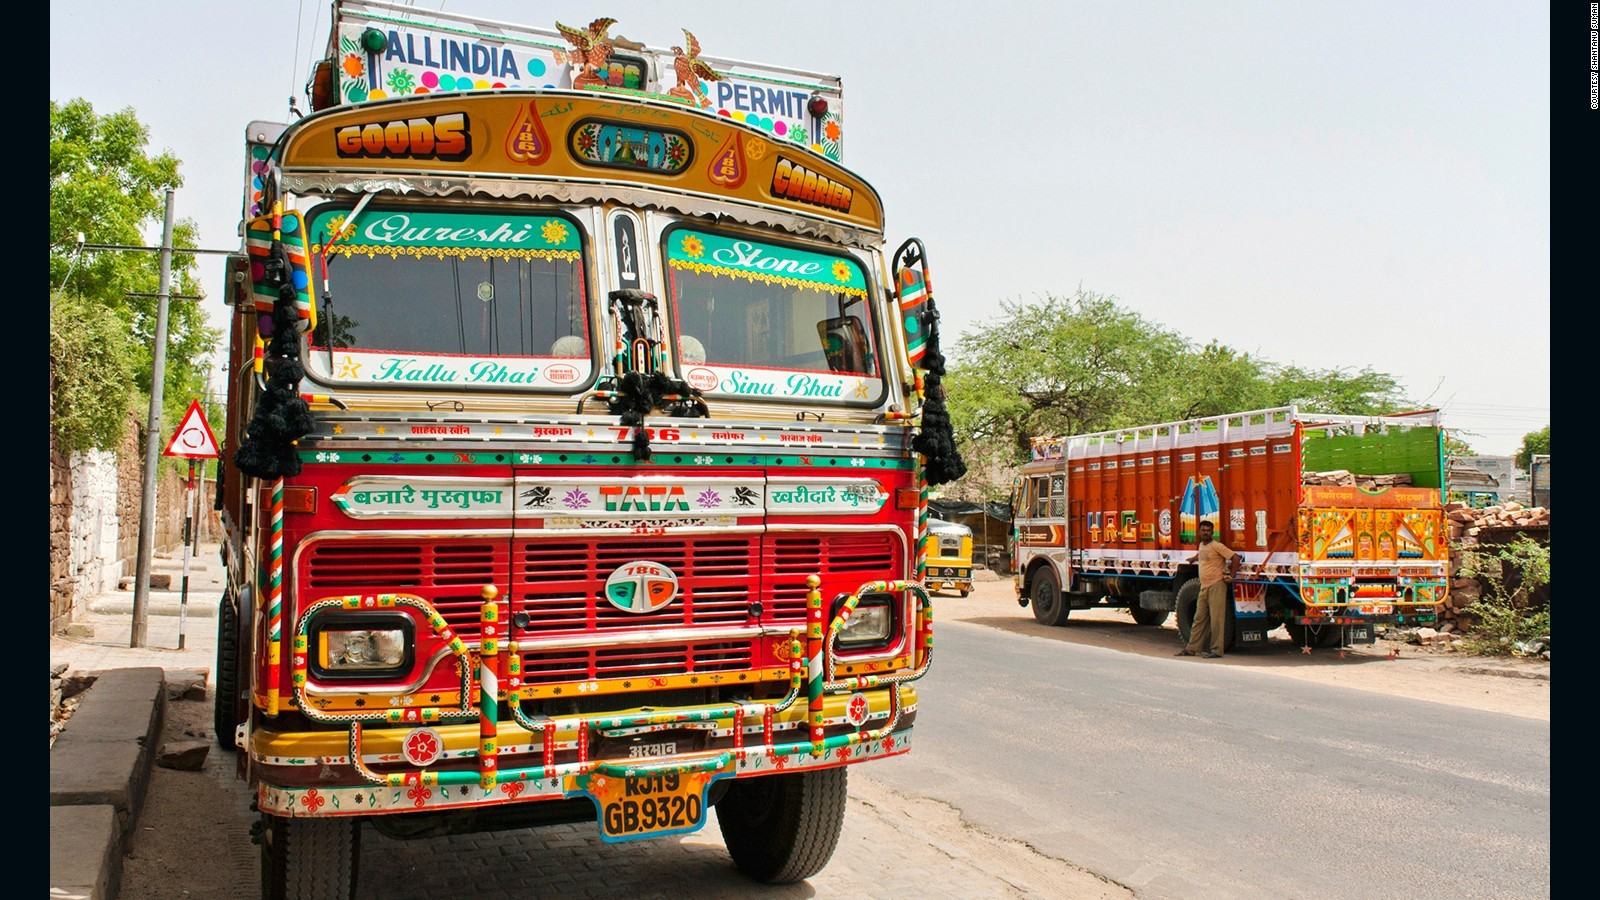HeavyVehicle: (212, 3, 952, 890), (1011, 407, 1457, 662)
